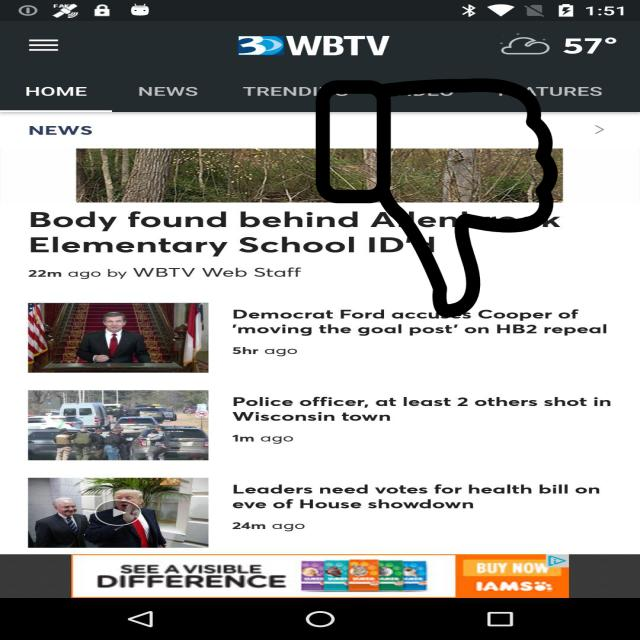obstruction: (312, 78, 561, 318)
